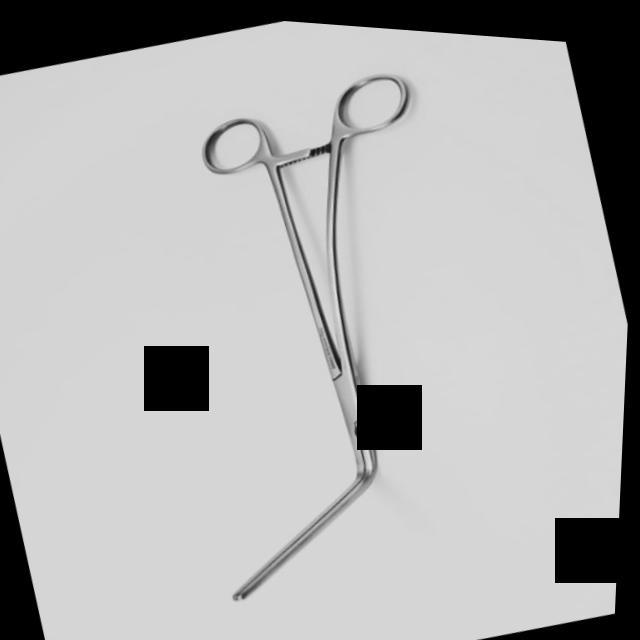Right Angle Colon Clamp: (82, 37, 545, 626)
